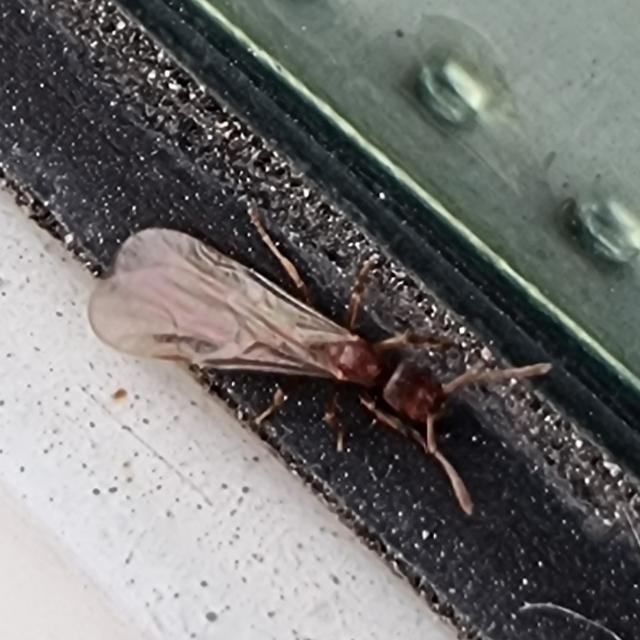Myrmica: (104, 230, 468, 444)
